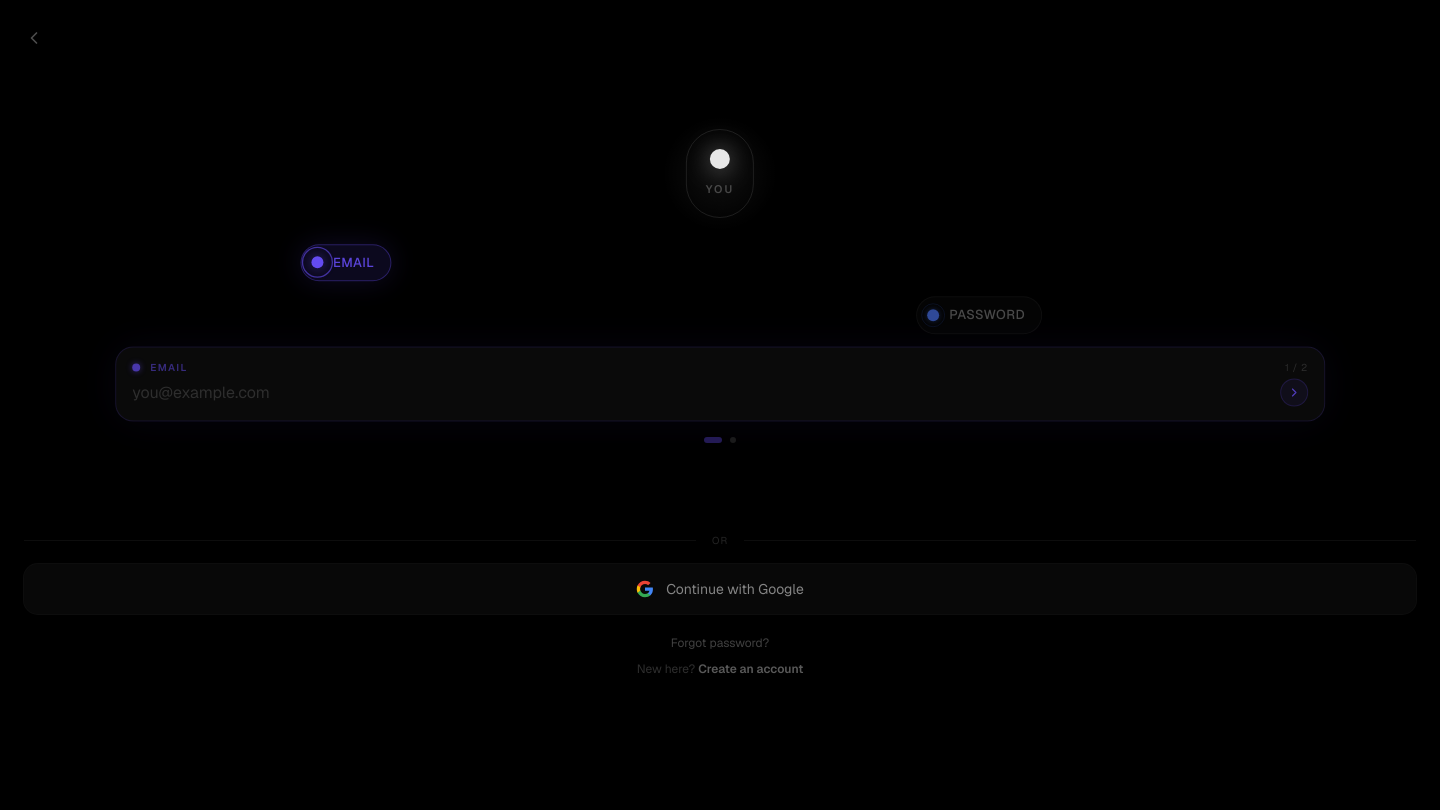
LoginContent › shows error message when login fails
The width and height of the screenshot is (1440, 810).
Type "test@example.com" into the field with placeholder "you@example.com" at [702, 392], box 132,380 -> 1272,404
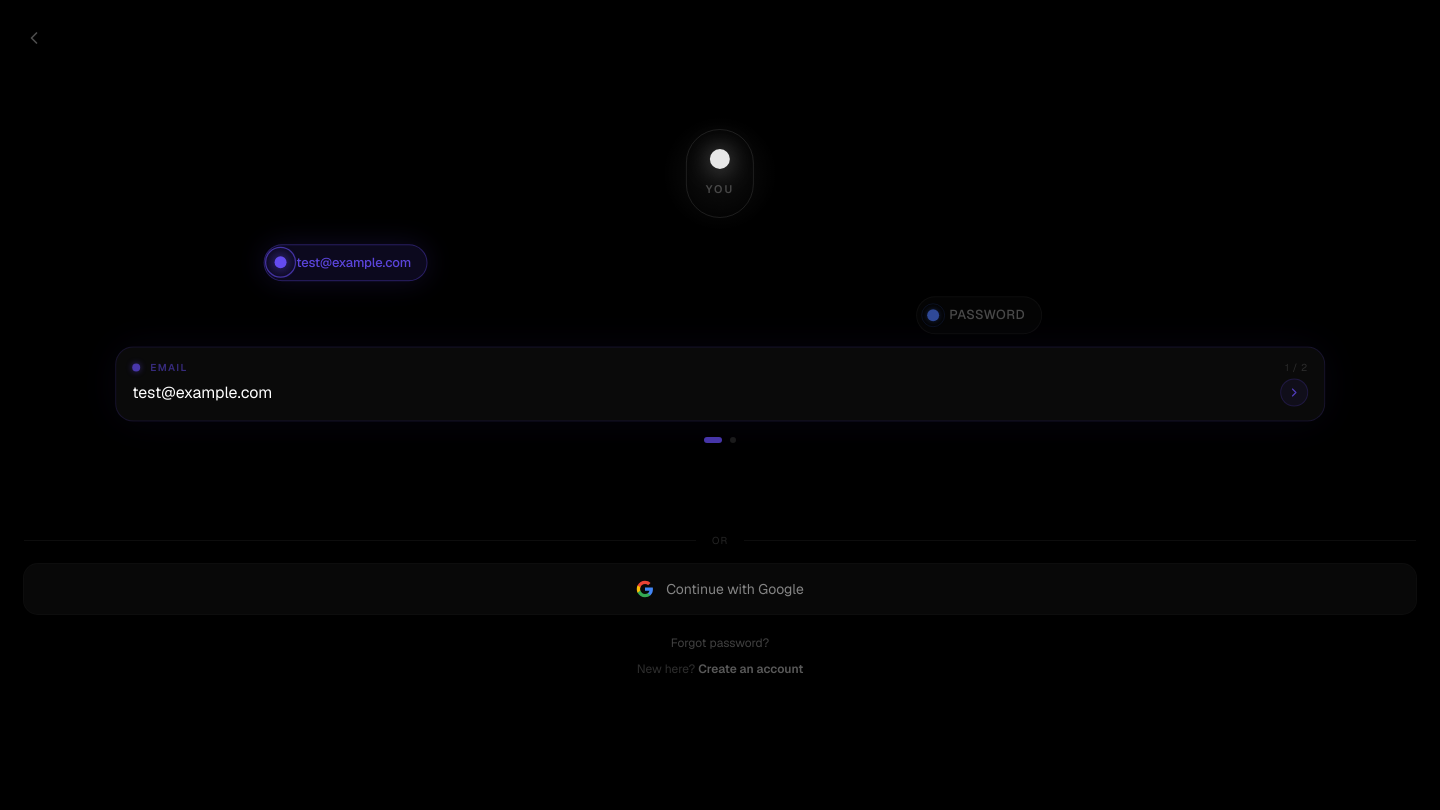
Click the 2nd button at [1294, 392], box 1280,378 -> 1308,406
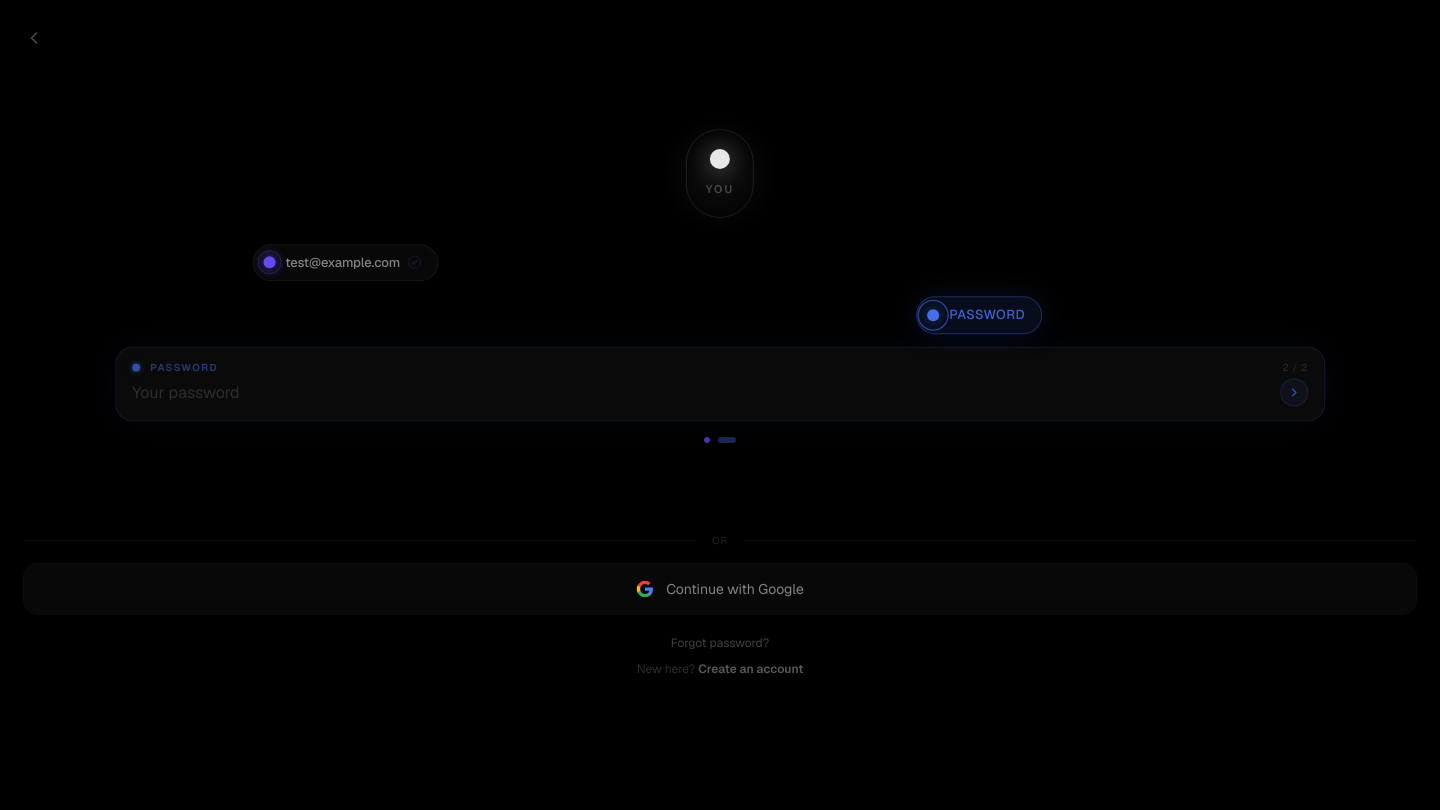
expect the password field with placeholder "Your password" is shown: met
Type "password123" into the password field with placeholder "Your password" at [702, 392], box 132,380 -> 1272,404
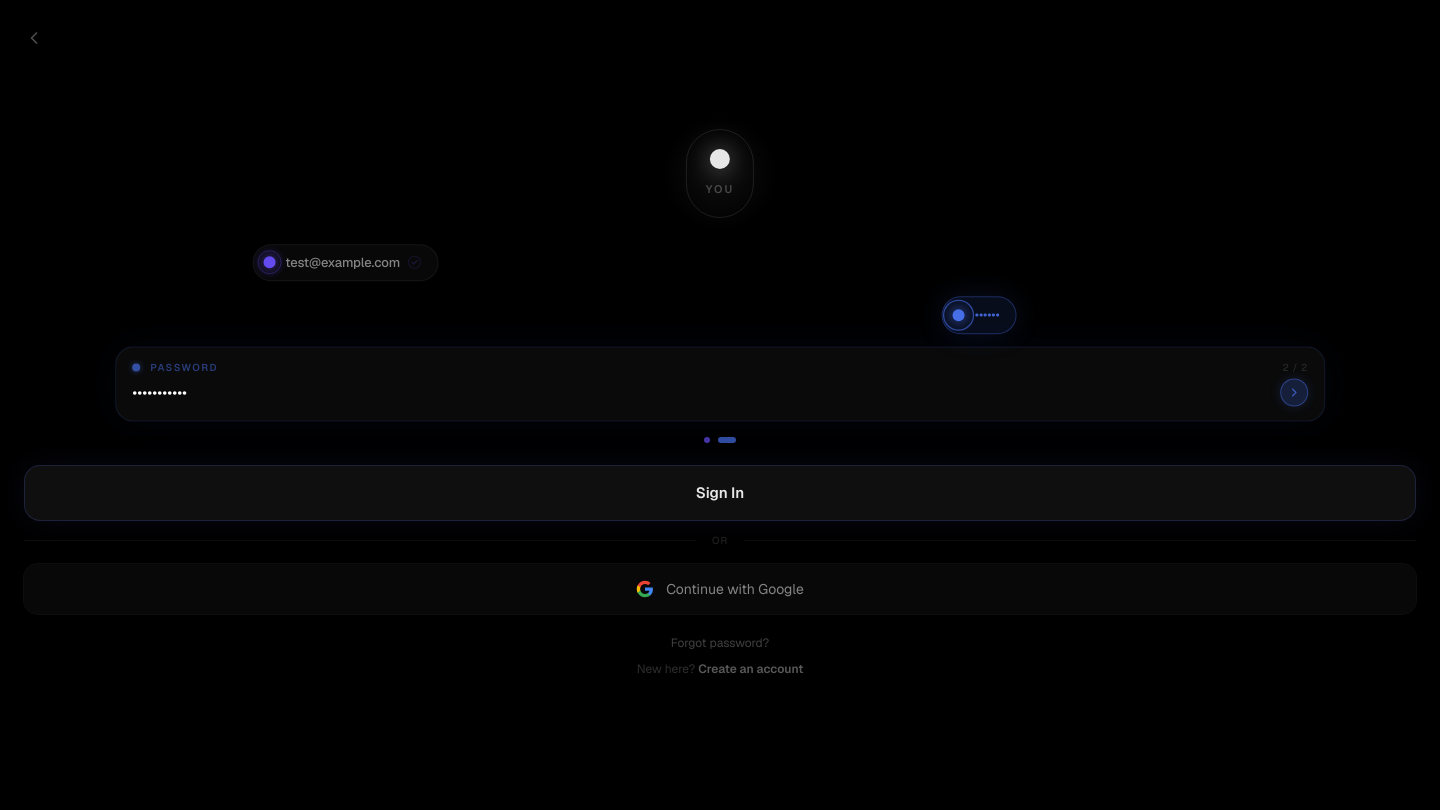
Click the button "Sign In" at [720, 493], box 24,465 -> 1416,521
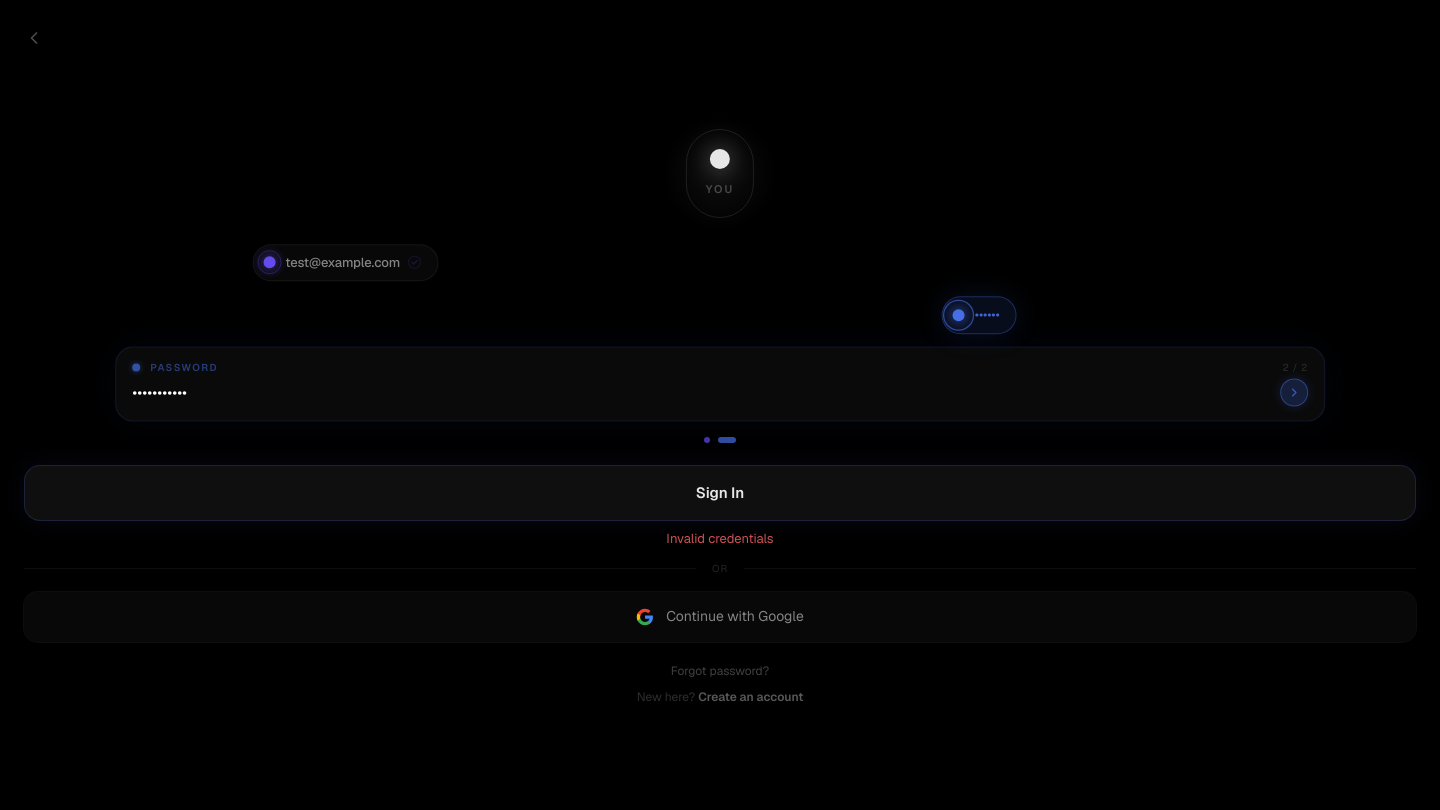
expect the text "Invalid credentials" is shown: met, box 666,530 -> 774,547
